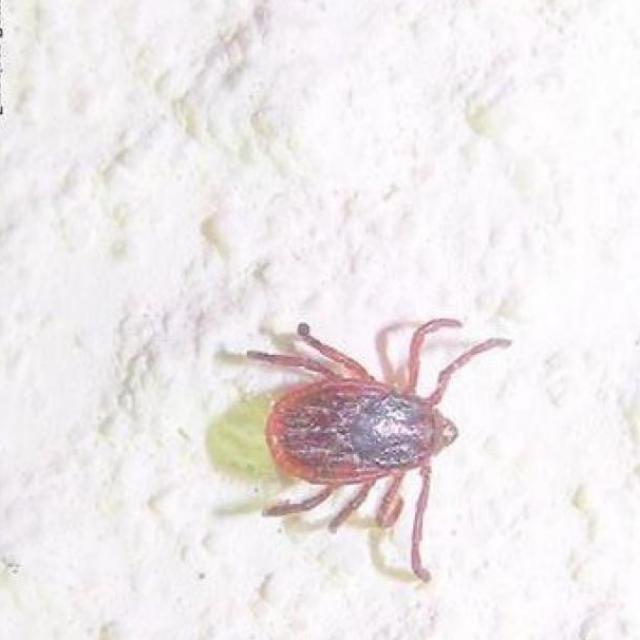Rhipicephalus Sanguineus-F: (247, 319, 512, 584)
